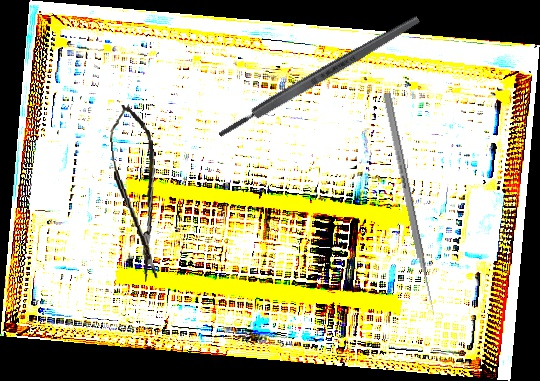Micro Scissor: (106, 102, 168, 284)
Pusher: (382, 92, 438, 316)
Scalpel Handle: (215, 13, 423, 141)
